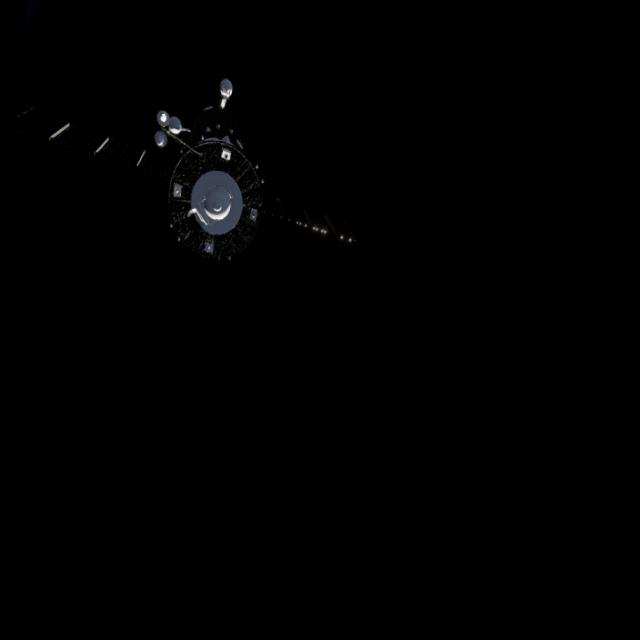Satellites revolving around earth: (160, 134, 270, 266)
